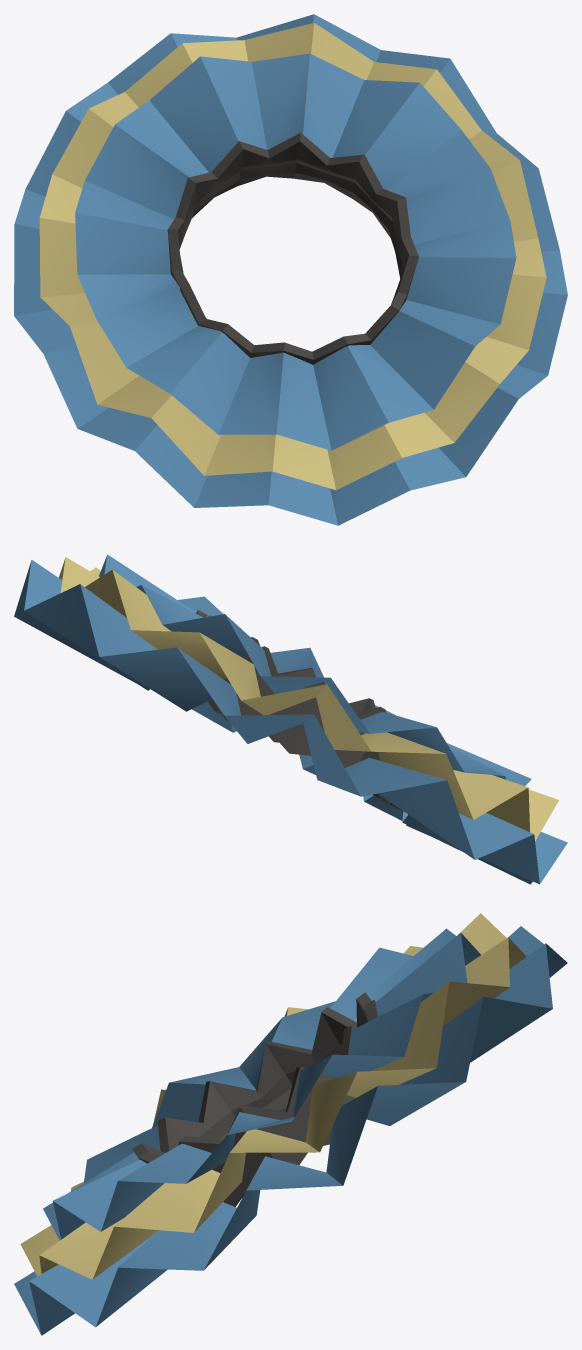
Rendered from amuletRuff1.fbx.
3 renders of one model, top to bottom at view 1: azimuth 30°, elevation 25°; view 2: azimuth 150°, elevation 25°; view 3: azimuth 270°, elevation 25°, orthographic. The views are drawn at different scales.
Visible parts, largest first — view 1: amuletRuff1; view 2: amuletRuff1; view 3: amuletRuff1.
Part boxes in pixels (x1,y1,x2,y2): amuletRuff1: (14,14,567,525); amuletRuff1: (14,554,567,884); amuletRuff1: (14,913,567,1335).
Size of the model in its own units: 1.64 by 1.15 by 1.45.
